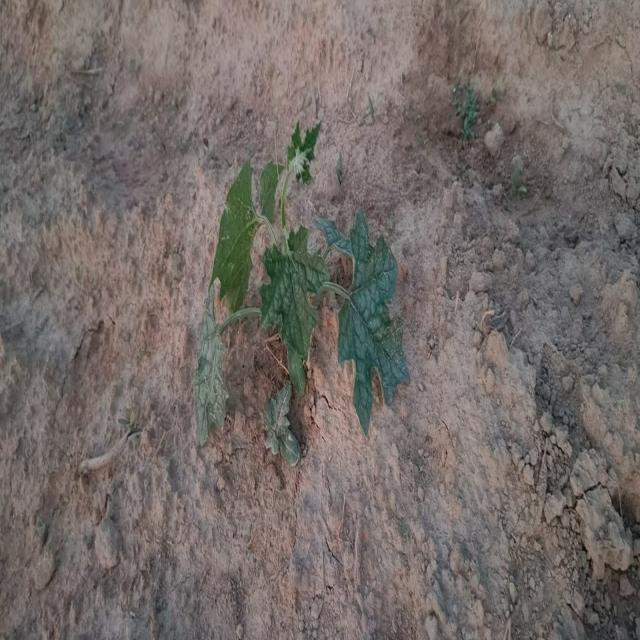plant: (193, 122, 410, 463)
